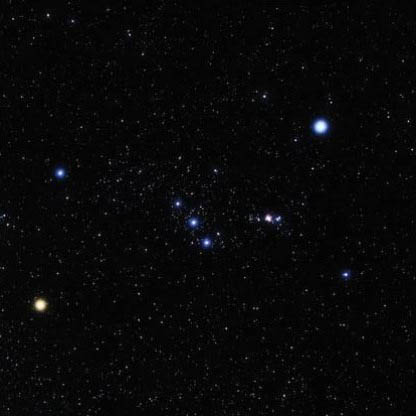Orion: (28, 291, 50, 321), (311, 111, 333, 136), (195, 233, 218, 255), (165, 192, 186, 215), (50, 164, 70, 187), (339, 262, 359, 284), (181, 217, 204, 231)
